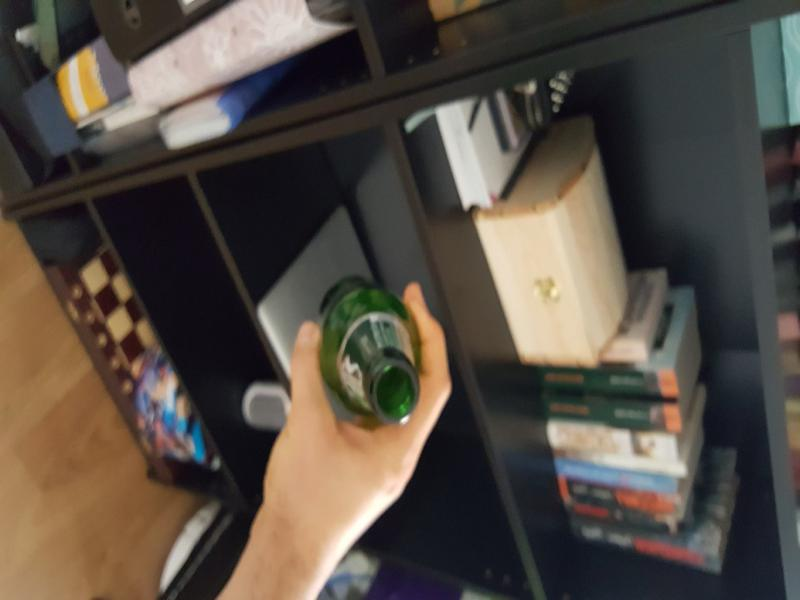Beer: (313, 277, 417, 425)
